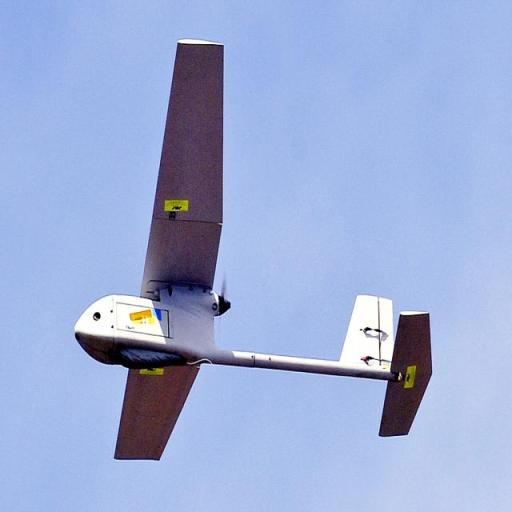uav: (71, 32, 442, 469)
